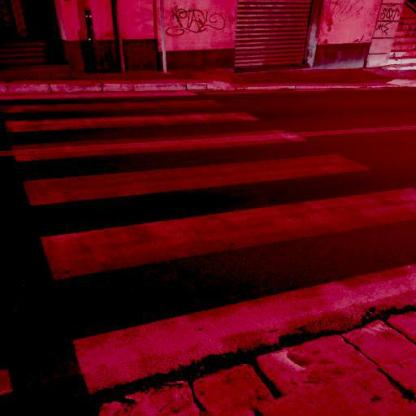crosswalk: (7, 126, 376, 217)
